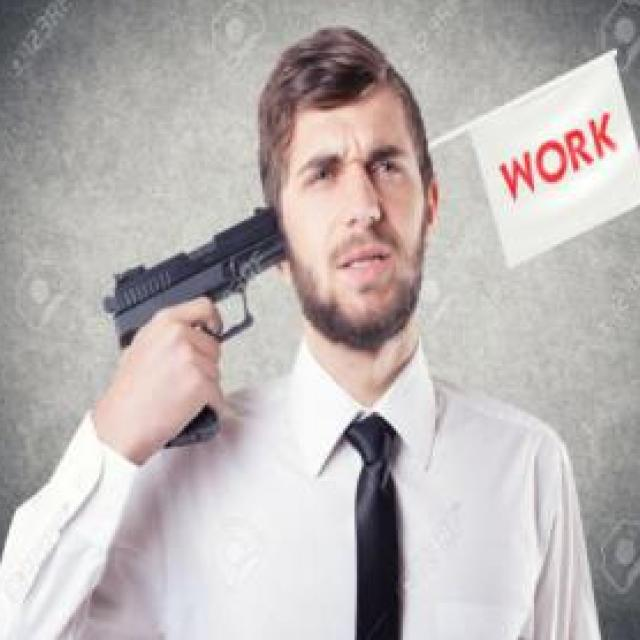pistol: (104, 203, 284, 457)
